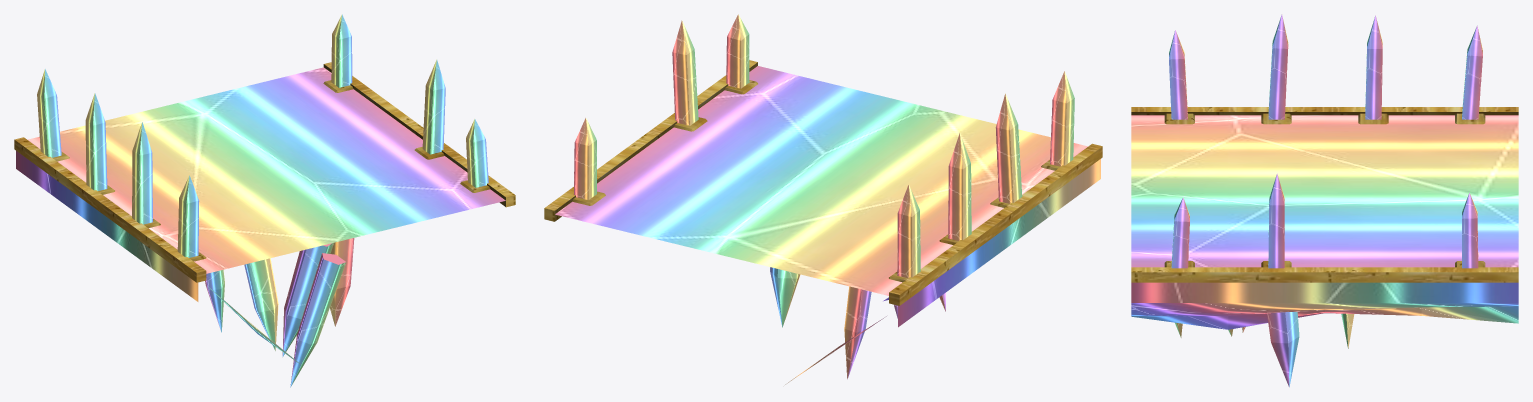
Rendered from bifrost_bridge.glb.
3 renders of one model, left to right at view 1: azimuth 30°, elevation 25°; view 2: azimuth 150°, elevation 25°; view 3: azimuth 270°, elevation 25°, orthographic. The views are drawn at different scales.
Visible parts, largest first — view 1: bifrost_bridge; view 2: bifrost_bridge; view 3: bifrost_bridge.
Boxes of the visible parts, left/top/right/bottom form: bifrost_bridge: left=14, top=14, right=515, bottom=387; bifrost_bridge: left=544, top=14, right=1102, bottom=384; bifrost_bridge: left=1131, top=14, right=1518, bottom=387.
Size of the model in its own units: 2.02 by 1.59 by 2.
2 materials, 2 textured.
